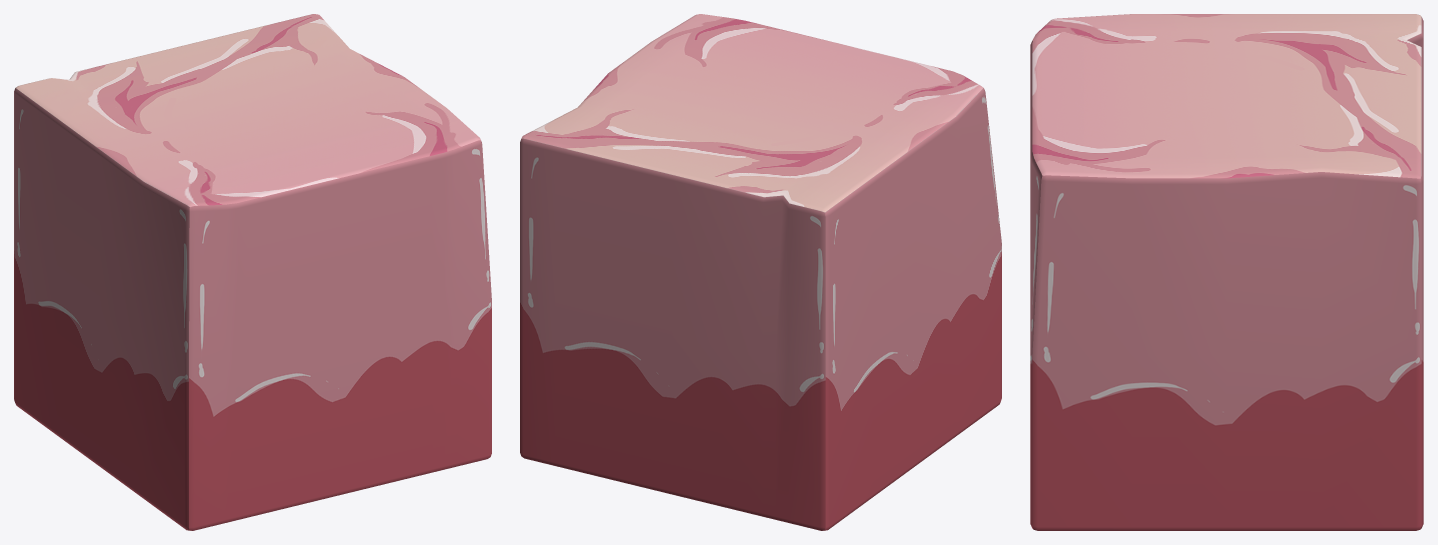
The model's file is S1_InF_Block(1)_001.fbx.
The picture shows the model from 3 angles, left to right: view 1: azimuth 30°, elevation 25°; view 2: azimuth 150°, elevation 25°; view 3: azimuth 270°, elevation 25°; orthographic projection. The views are drawn at different scales.
Parts seen in each view (by area): view 1: pCube83; view 2: pCube83; view 3: pCube83.
Boxes of the visible parts, x1,y1,x2,y2 form: pCube83: (14,14,491,530); pCube83: (520,14,1001,530); pCube83: (1030,14,1423,530).
Bounding box in the file's own units: 1 × 1 × 1.
